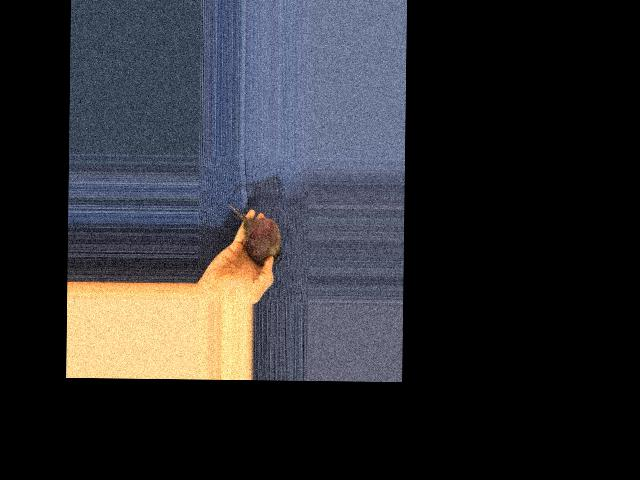beet: (227, 204, 283, 265)
